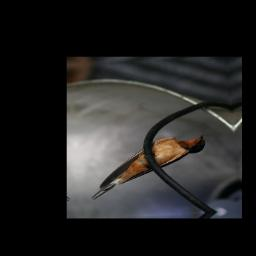Swallow: (84, 131, 214, 202)
